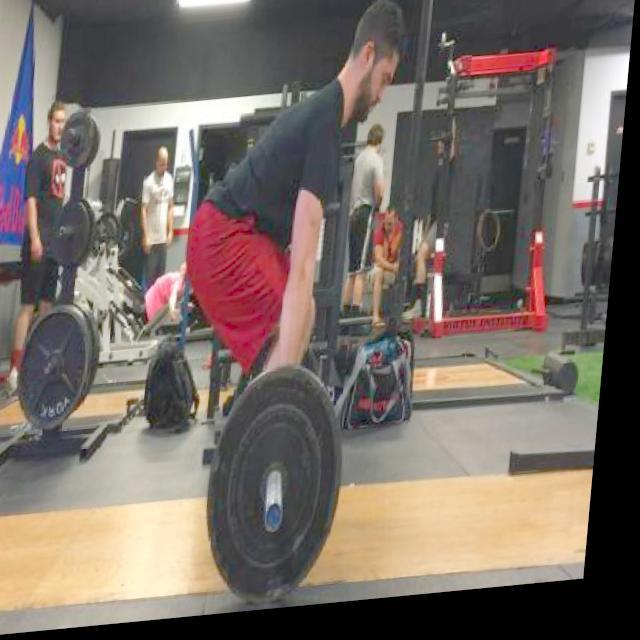barbell: (200, 360, 368, 618)
